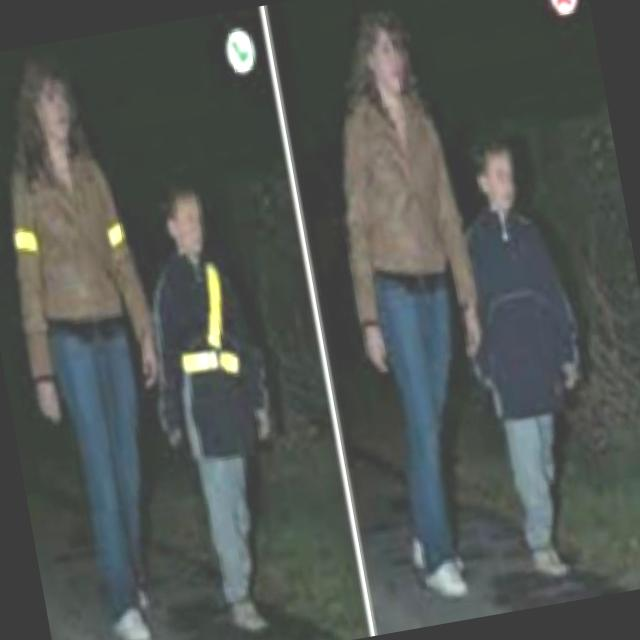Person: (302, 1, 524, 611), (0, 54, 201, 640), (117, 174, 306, 640), (432, 132, 620, 590)
